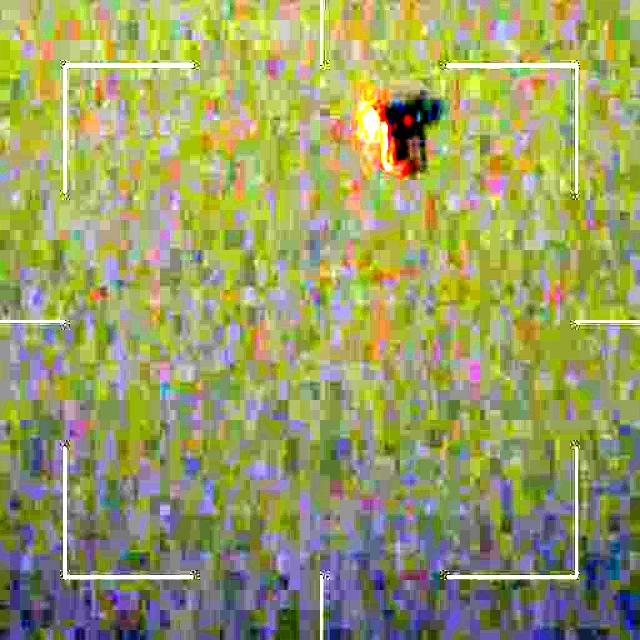bird: (355, 85, 448, 185)
